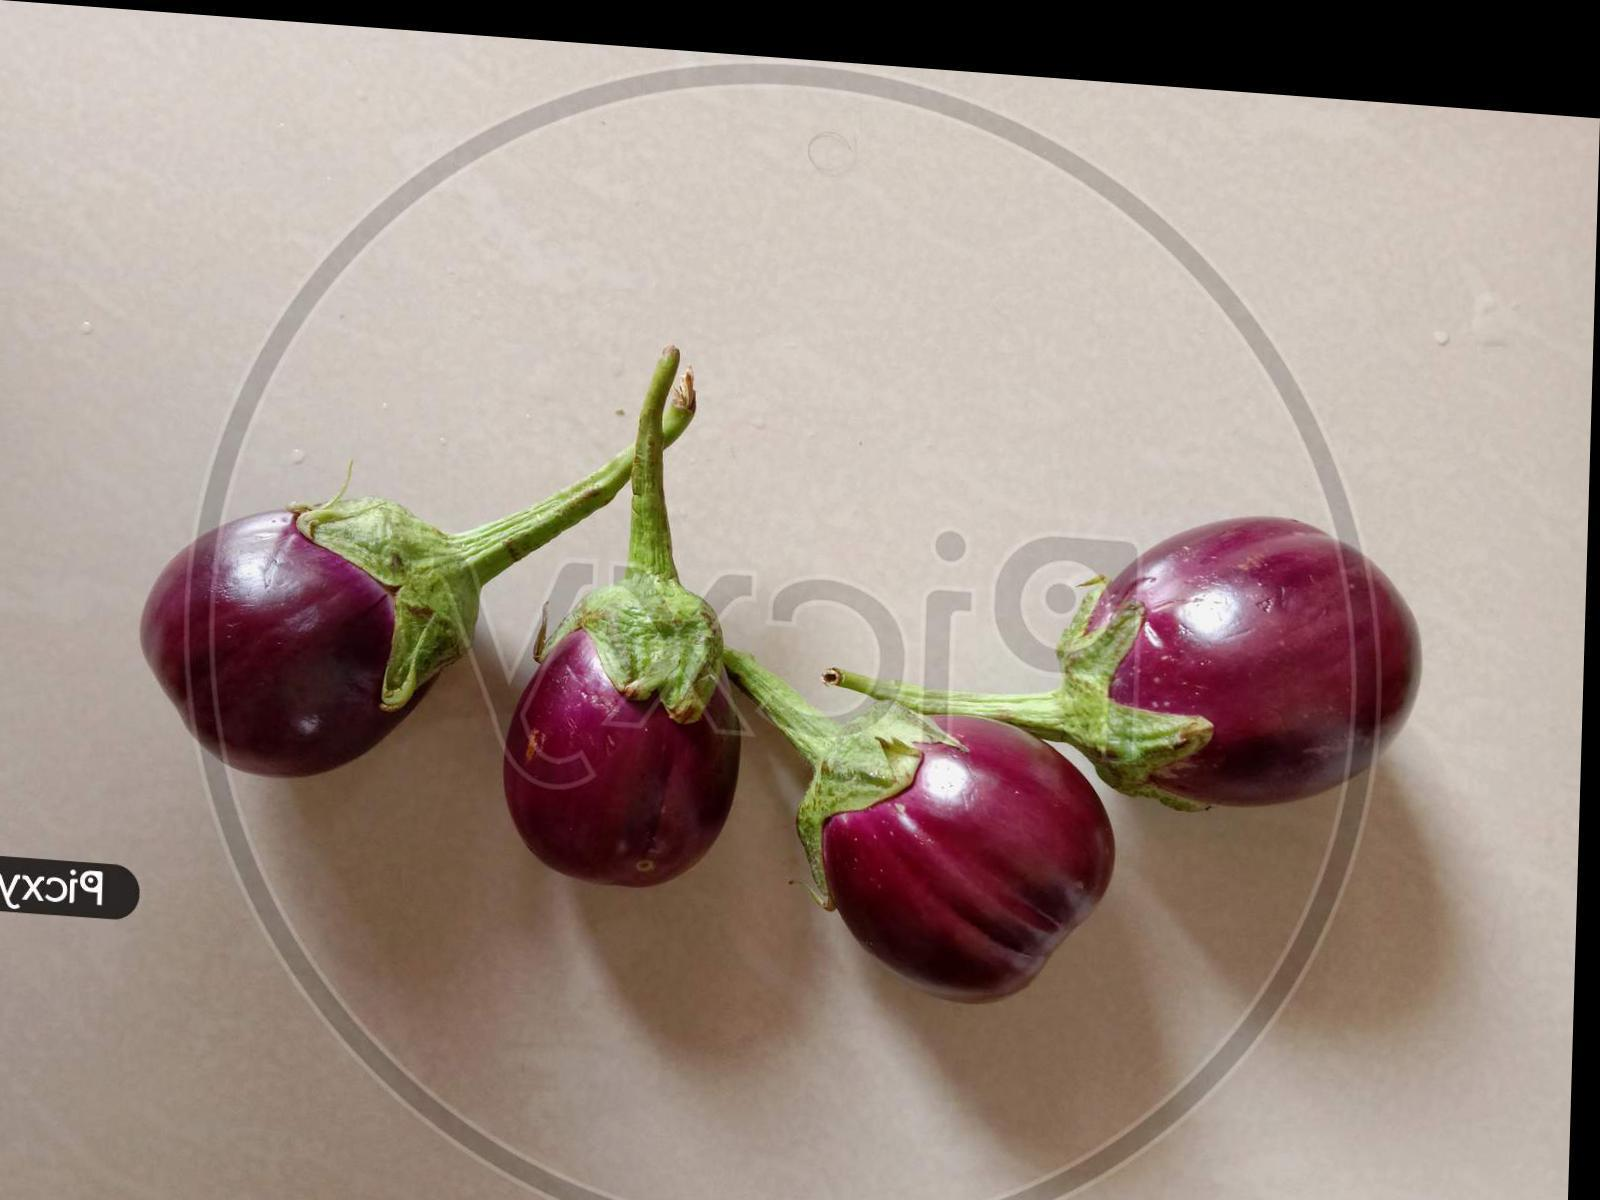eggplant: (94, 374, 635, 842), (752, 618, 1165, 1010), (1043, 465, 1449, 805), (471, 461, 797, 879)
